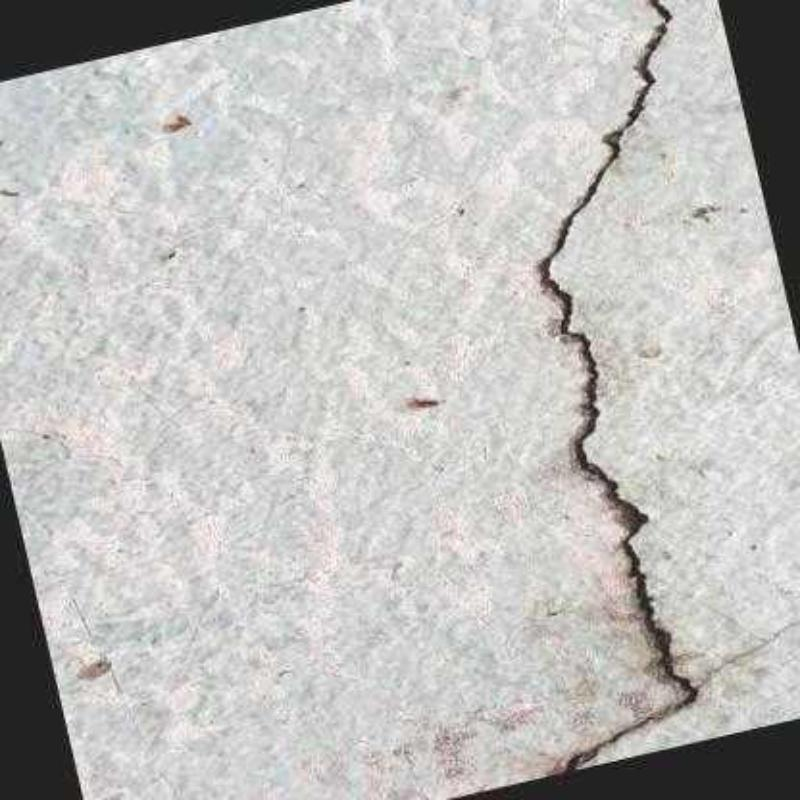pothole: (532, 0, 703, 776), (698, 621, 798, 687)
